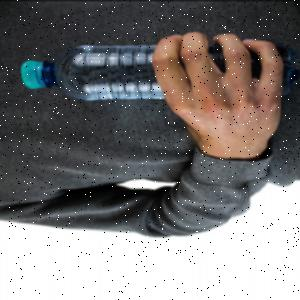Plastic-bottle: (21, 45, 159, 101)
